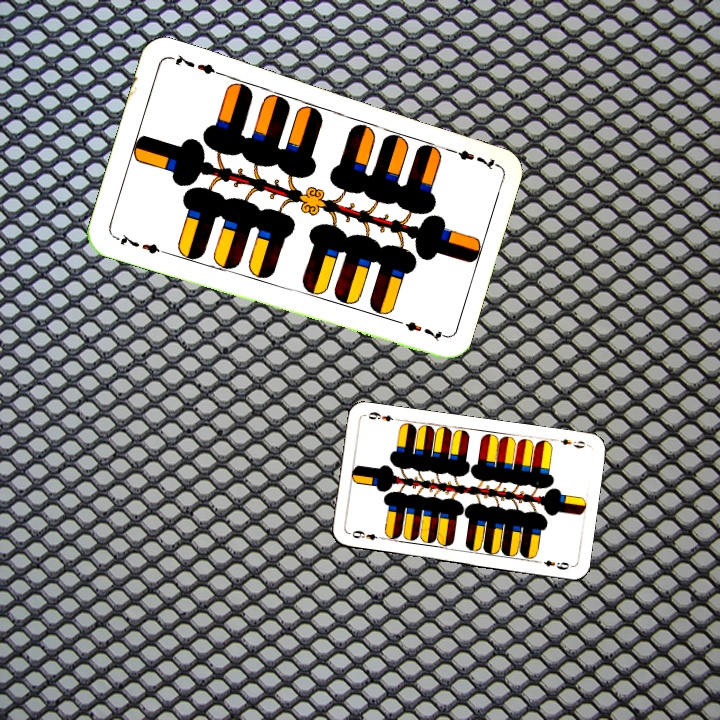E7: (441, 143, 498, 172), (110, 230, 168, 257)
E9: (346, 526, 387, 543), (550, 435, 590, 451)
